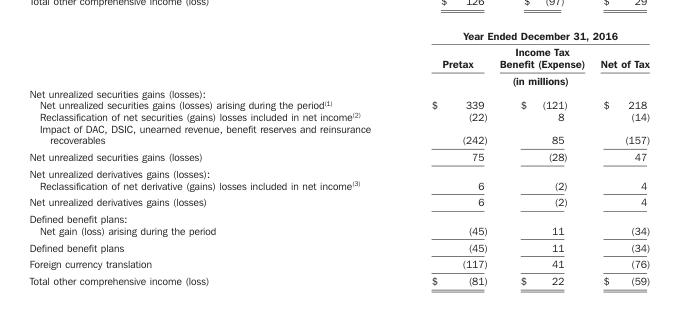table: (28, 28, 649, 286)
table column: (28, 28, 400, 286), (492, 28, 591, 286), (400, 28, 492, 286), (591, 28, 649, 286)
table column header: (28, 28, 649, 86)
table projected row header: (28, 209, 649, 224), (28, 164, 649, 178), (28, 86, 649, 98)
table row: (28, 43, 649, 71), (28, 122, 649, 147), (28, 147, 649, 164), (28, 238, 649, 255), (28, 255, 649, 272), (28, 193, 649, 209), (28, 28, 649, 43), (28, 71, 649, 86), (28, 178, 649, 193), (28, 209, 649, 224), (28, 164, 649, 178), (28, 224, 649, 238), (28, 272, 649, 286), (28, 86, 649, 98), (28, 98, 649, 110), (28, 110, 649, 122)
table spanning cell: (400, 28, 649, 43), (400, 71, 649, 86)
